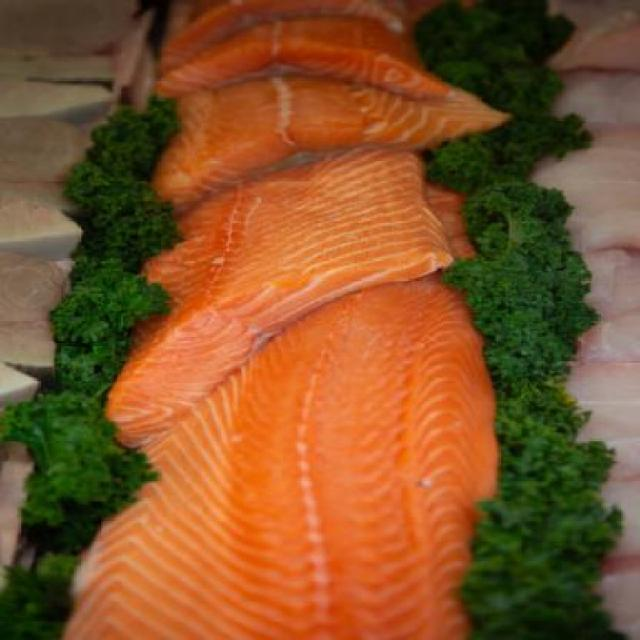salmon: (49, 224, 503, 640), (83, 155, 511, 438), (144, 60, 508, 197), (143, 5, 475, 109)
